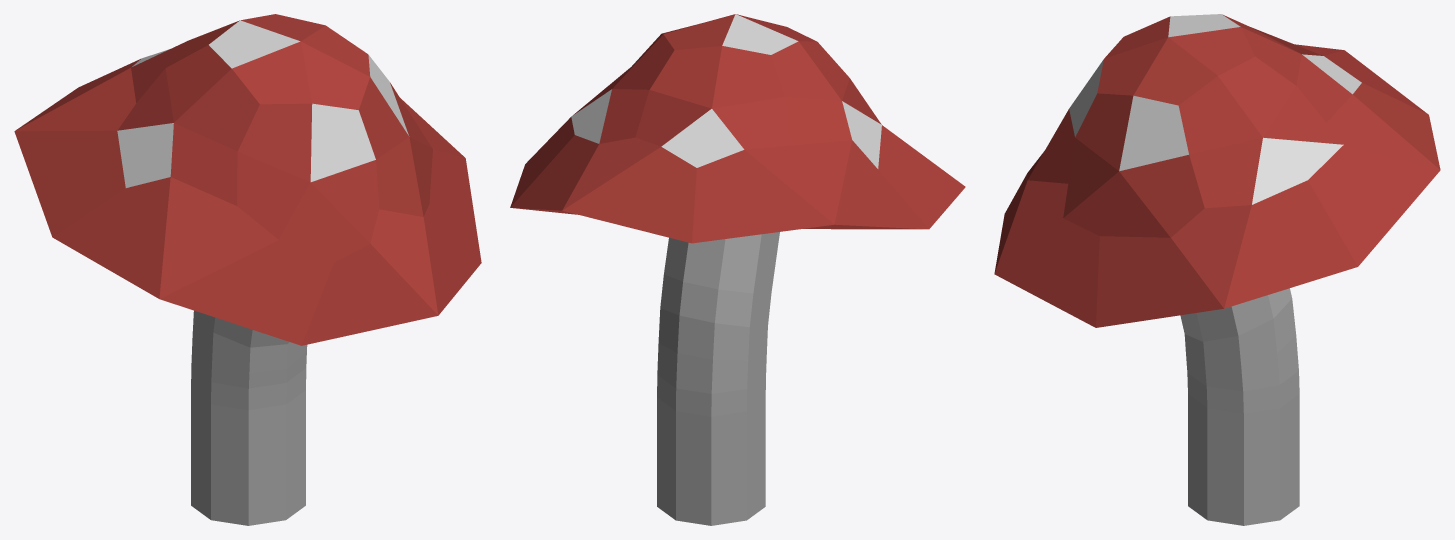
The model's file is MushroomRed.fbx.
3 views of the same model, side by side, from view 1: azimuth 30°, elevation 25°; view 2: azimuth 150°, elevation 25°; view 3: azimuth 270°, elevation 25° (orthographic). The views are drawn at different scales.
Parts seen in each view (by area): view 1: pPlatonic2, pCylinder3; view 2: pPlatonic2, pCylinder3; view 3: pPlatonic2, pCylinder3.
Part boxes in pixels (x1,y1,x2,y2): pPlatonic2: [14, 14, 481, 345]; pCylinder3: [191, 310, 307, 525]; pPlatonic2: [510, 14, 965, 243]; pCylinder3: [657, 232, 779, 525]; pPlatonic2: [994, 14, 1440, 327]; pCylinder3: [1180, 288, 1299, 525].
Bounding box in the file's own units: 3.34 × 3.68 × 3.16.
